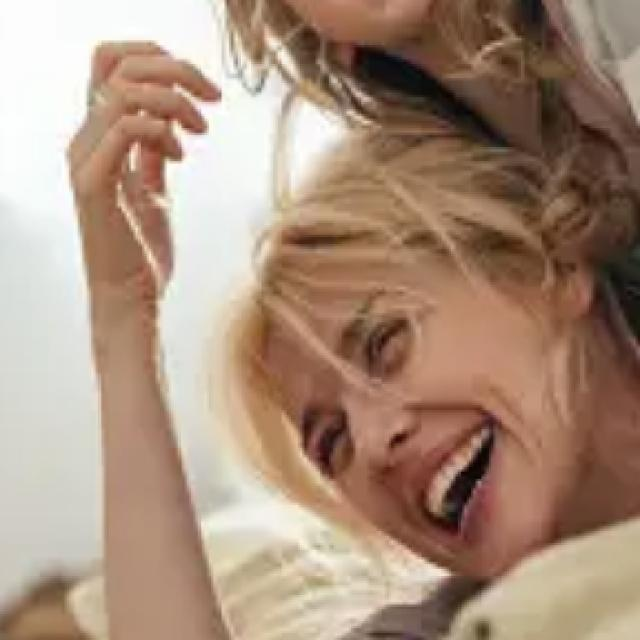happy: (142, 66, 634, 638)
